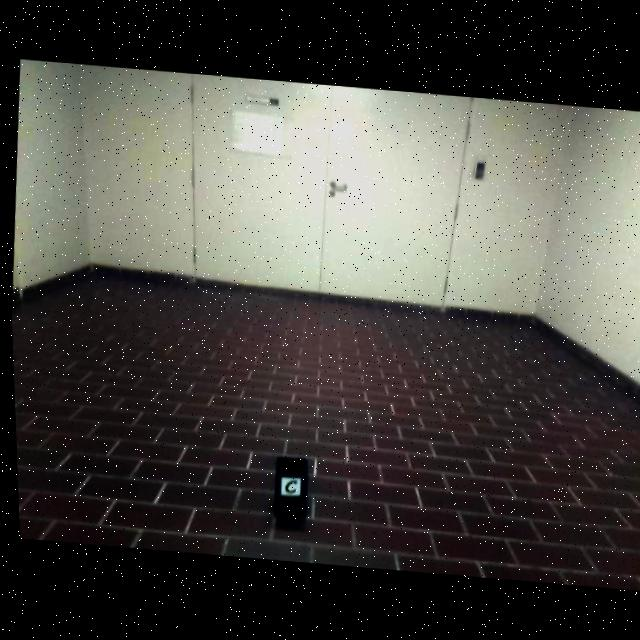C: (279, 478, 294, 493)
